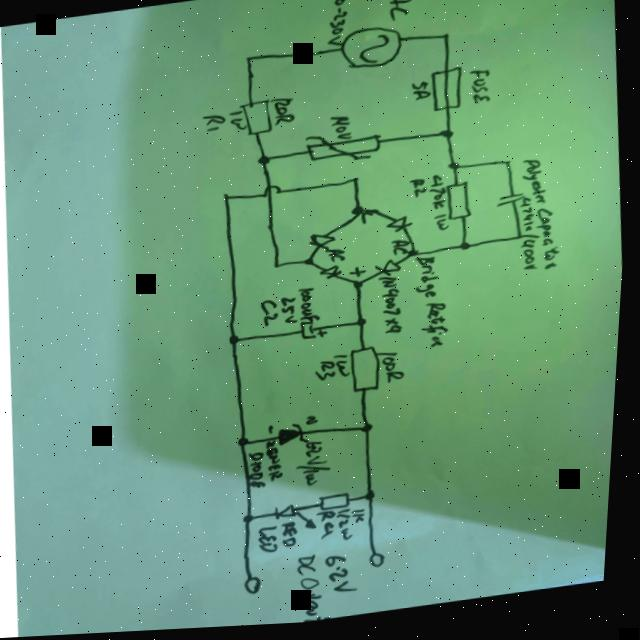capacitor: (301, 321, 332, 345), (495, 197, 529, 213)
crossover: (261, 185, 285, 202)
diode: (270, 418, 324, 452), (277, 503, 324, 538), (308, 235, 340, 256), (376, 261, 408, 282), (388, 219, 418, 238), (321, 267, 349, 284)
junction: (353, 208, 369, 220), (258, 157, 274, 168), (447, 164, 463, 175), (441, 133, 456, 144), (354, 282, 369, 293), (409, 252, 424, 263), (357, 321, 372, 332), (305, 258, 319, 269), (462, 246, 476, 257), (365, 426, 379, 437), (247, 516, 261, 527), (369, 494, 383, 505), (241, 439, 256, 449), (231, 337, 245, 347), (505, 163, 515, 171), (440, 38, 450, 45), (245, 57, 255, 64), (224, 196, 234, 203), (352, 179, 362, 186), (274, 265, 284, 272), (519, 239, 529, 246)
resistor: (351, 348, 389, 398), (239, 100, 277, 139), (445, 185, 476, 226), (321, 495, 359, 515)
source: (337, 26, 406, 77)
terminal: (249, 578, 271, 600), (373, 555, 394, 573)
text: (518, 160, 571, 277), (412, 258, 459, 354), (293, 554, 341, 627), (515, 199, 544, 280), (296, 443, 341, 492), (249, 442, 293, 492), (319, 0, 355, 52), (328, 555, 368, 599), (382, 277, 410, 339), (429, 178, 455, 237), (377, 353, 412, 388), (296, 288, 325, 327), (469, 72, 495, 109), (382, 0, 417, 27), (270, 97, 297, 129), (321, 511, 346, 544), (261, 526, 286, 557), (281, 297, 304, 330), (340, 510, 361, 546), (329, 116, 355, 145), (316, 362, 341, 387), (201, 114, 229, 135), (263, 301, 284, 329), (411, 83, 436, 106), (337, 355, 356, 383), (285, 524, 305, 550), (228, 112, 251, 134), (390, 242, 416, 261), (411, 180, 430, 203), (327, 250, 349, 268), (355, 509, 372, 529), (350, 268, 372, 283), (359, 216, 373, 230)
